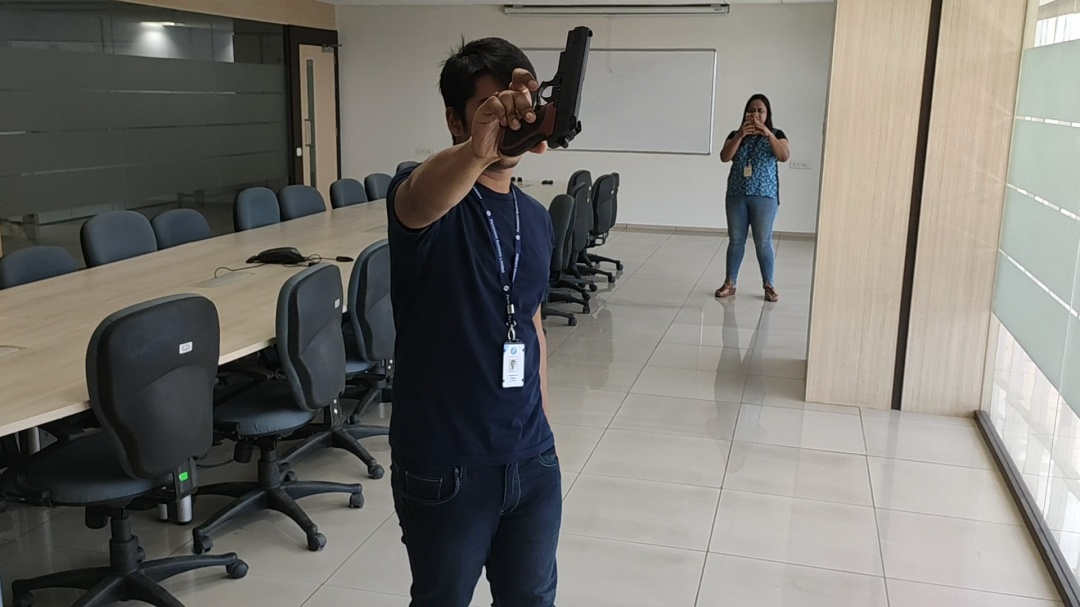gun: (539, 22, 597, 154)
